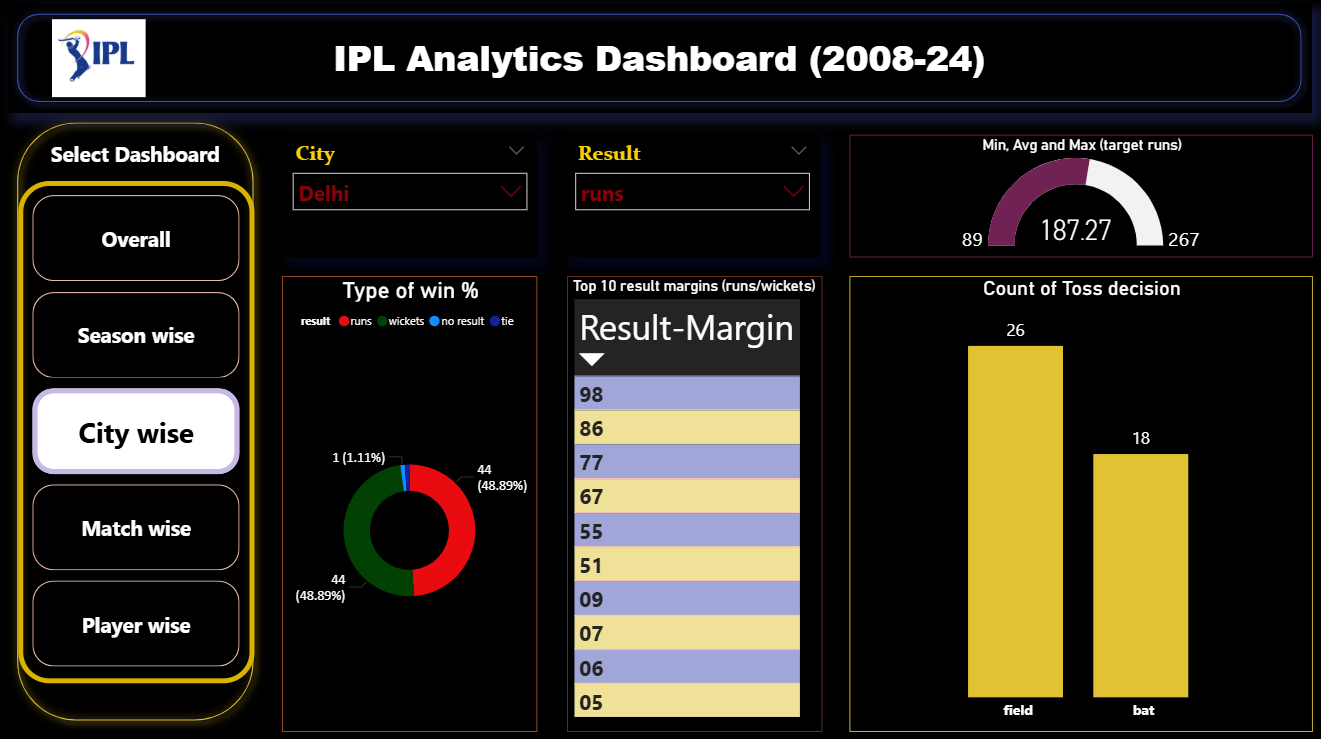

What the dashboard file says about the page in this screenshot:
{"tool":"powerbi","page":{"name":"City wise","canvas":[1280,720],"ordinal":2},"visuals":[{"type":"shape","box":[10.1,112.5,248.2,597.3],"z":0},{"type":"shape","box":[10.1,7.2,1259.5,105.3],"z":1000},{"type":"slicer","fields":{"Values":["matches.city"]},"box":[275.6,134.2,246.7,118.3],"z":2000},{"type":"gauge","title":"Min, Avg and Max (target runs)","fields":{"MinValue":["Min(matches.target_runs)"],"MaxValue":["Max(matches.target_runs)1"],"Y":["Avg(matches.target_runs)2"],"TargetValue":["Sum(matches.target_runs)3"]},"box":[822.4,134.2,447.3,118.3],"z":3000},{"type":"donutChart","title":"Type of win %","fields":{"Category":["matches.result"],"Y":["CountNonNull(matches.result)"]},"box":[275.6,269.8,246.7,440],"z":4000},{"type":"slicer","fields":{"Values":["matches.result"]},"box":[548.2,134.2,246.7,118.3],"z":5000},{"type":"tableEx","title":"Top 10 result margins (runs/wickets)","fields":{"Values":["matches.Result-Margin"]},"box":[549.7,269.8,246.7,440],"z":6000},{"type":"clusteredColumnChart","title":"Count of Toss decision","fields":{"Category":["matches.toss_decision"],"Y":["CountNonNull(matches.toss_decision)"]},"box":[822.4,269.8,447.3,440],"z":7000},{"type":"pageNavigator","box":[20.5,178.6,228,485],"z":8000},{"type":"image","box":[33.8,16.9,100.1,86.9],"z":8001}]}

Visuals, with their boxes in screenshot pixels (x1, y1, x2, y2), scaled from the page's 1280x720 canvas onto the 1321x739 screenshot:
shape: [10, 115, 267, 729]
shape: [10, 7, 1310, 115]
slicer - matches.city: [284, 138, 539, 259]
"Min, Avg and Max (target runs)" gauge: [849, 138, 1310, 259]
"Type of win %" donutChart: [284, 277, 539, 729]
slicer - matches.result: [566, 138, 820, 259]
"Top 10 result margins (runs/wickets)" tableEx: [567, 277, 822, 729]
"Count of Toss decision" clusteredColumnChart: [849, 277, 1310, 729]
pageNavigator: [21, 183, 256, 681]
image: [35, 17, 138, 107]
